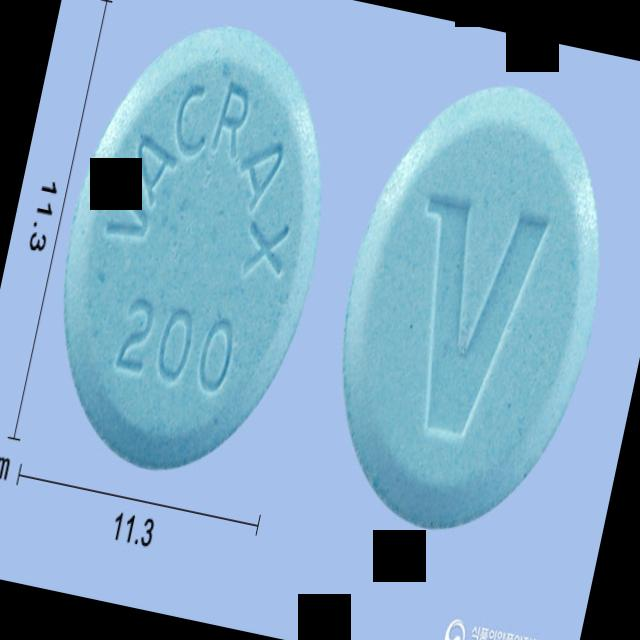Vacrax Tab: (303, 59, 640, 552), (25, 0, 361, 492)
